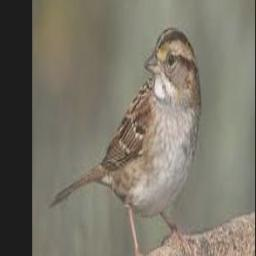Sparrow: (48, 28, 201, 256)
